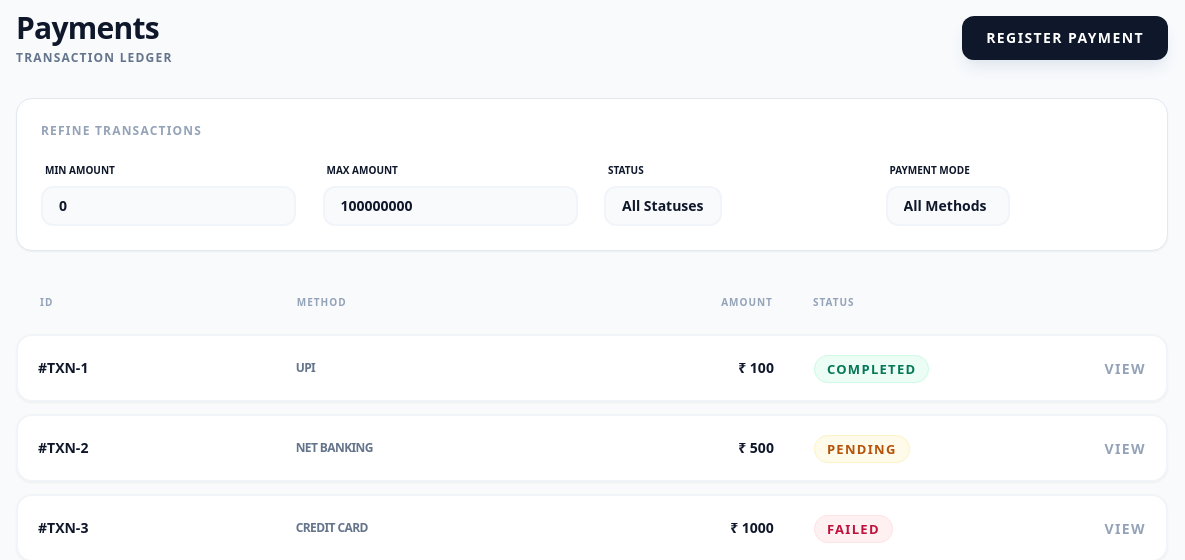
PaymentsList.vue › filters transactions based on min/max amount
The width and height of the screenshot is (1185, 560).
Replace the text in the number field below "Min Amount" with "600" at {"x": 168, "y": 206}, box left=41, top=186, right=296, bottom=226
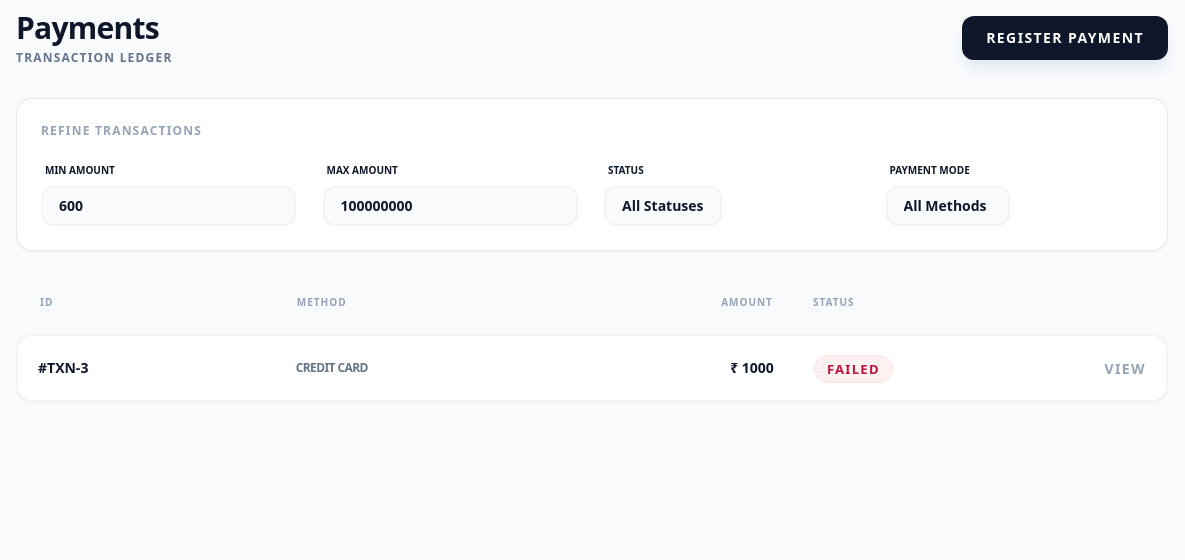
Expected: the text "#TXN-3" is shown, left=38, top=358, right=88, bottom=377
Result: the text "#TXN-1" is gone
